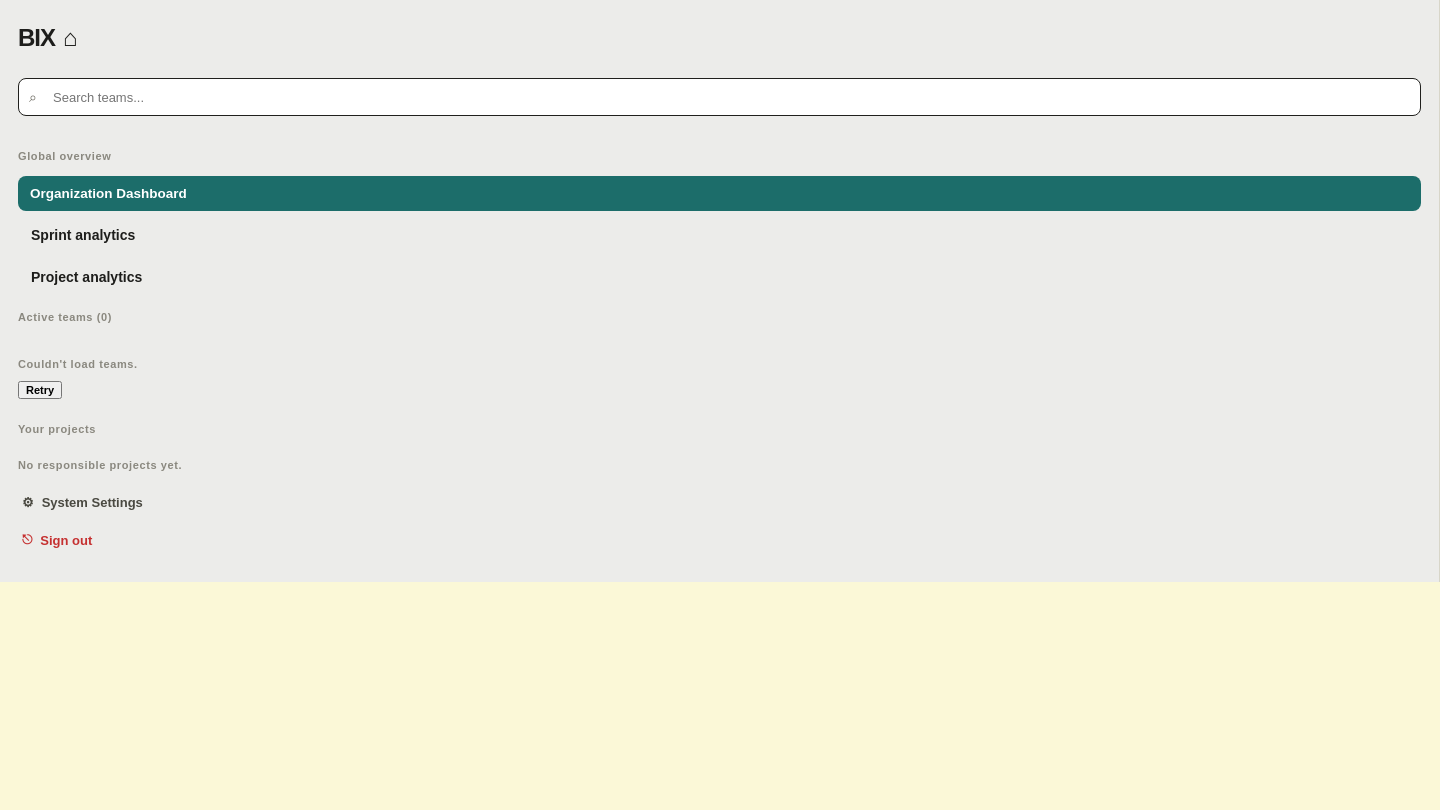
Test case: AdminSidebar - team list (real data) › shows an error message with Retry when teams cannot be loaded, and a successful retry recovers
This screenshot has width=1440, height=810.
Expected: the text "Couldn't load teams." is shown, [18,358,138,370]
Click the button "Retry": click(40, 390) [18,381,62,399]
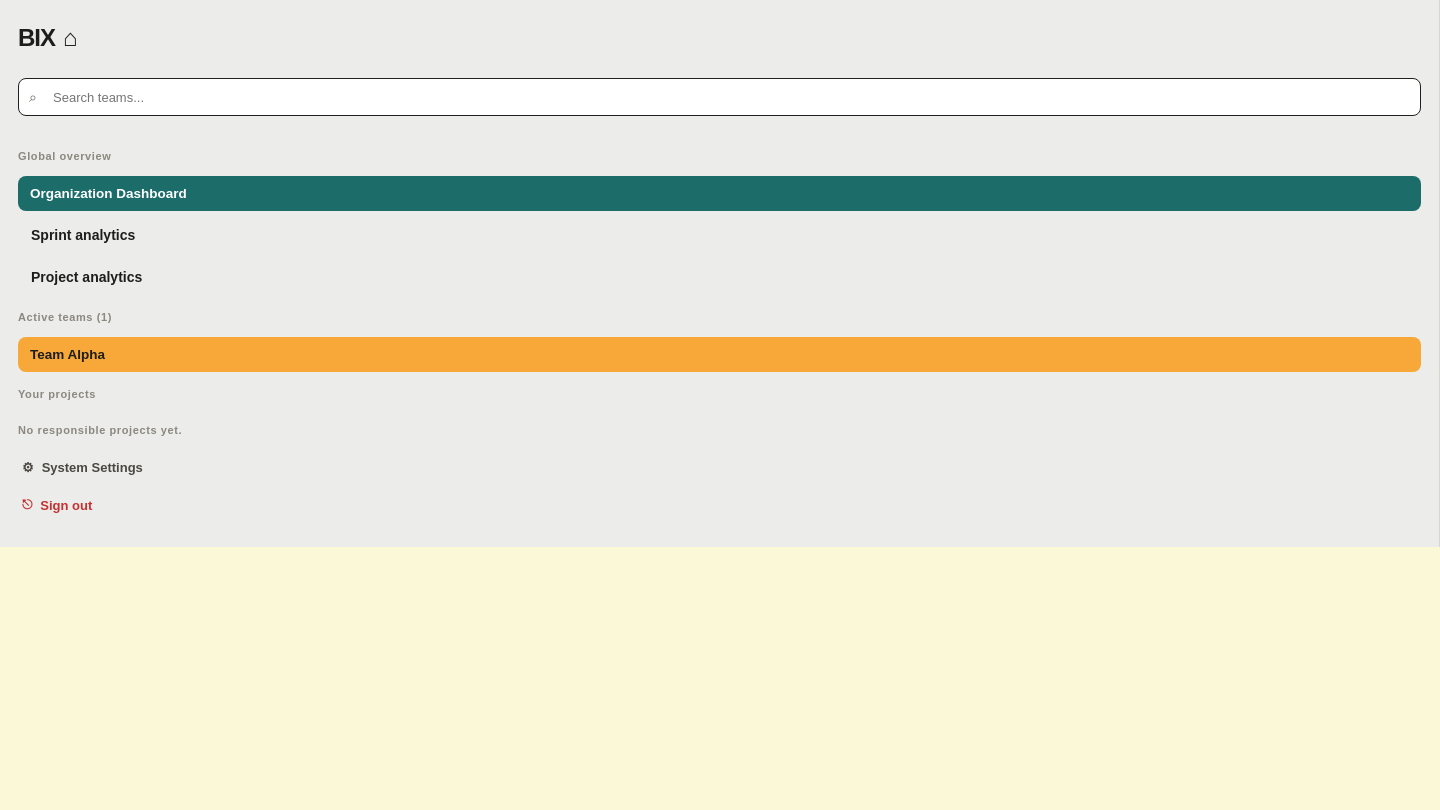
Expected: the link "Team Alpha" is shown, [18,337,1421,372]
